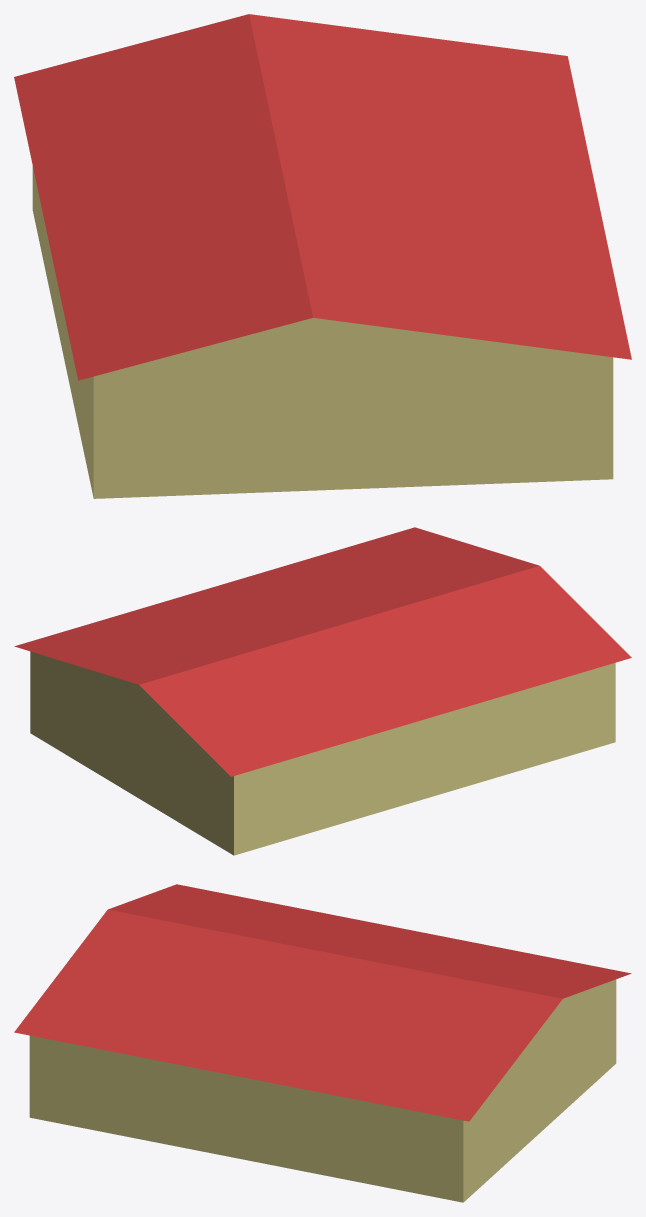
The picture shows the model from 3 angles, top to bottom: view 1: azimuth 30°, elevation 25°; view 2: azimuth 150°, elevation 25°; view 3: azimuth 270°, elevation 25°; orthographic projection. The views are drawn at different scales.
Size of the model in its own units: 47.28 by 51.99 by 11.62.
